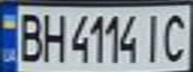1: (87, 11, 106, 64), (103, 11, 121, 63)
4: (66, 10, 90, 64), (118, 10, 142, 64)
B: (12, 9, 48, 63)
C: (160, 8, 193, 64)
H: (39, 9, 69, 63)
I: (139, 9, 169, 64)
